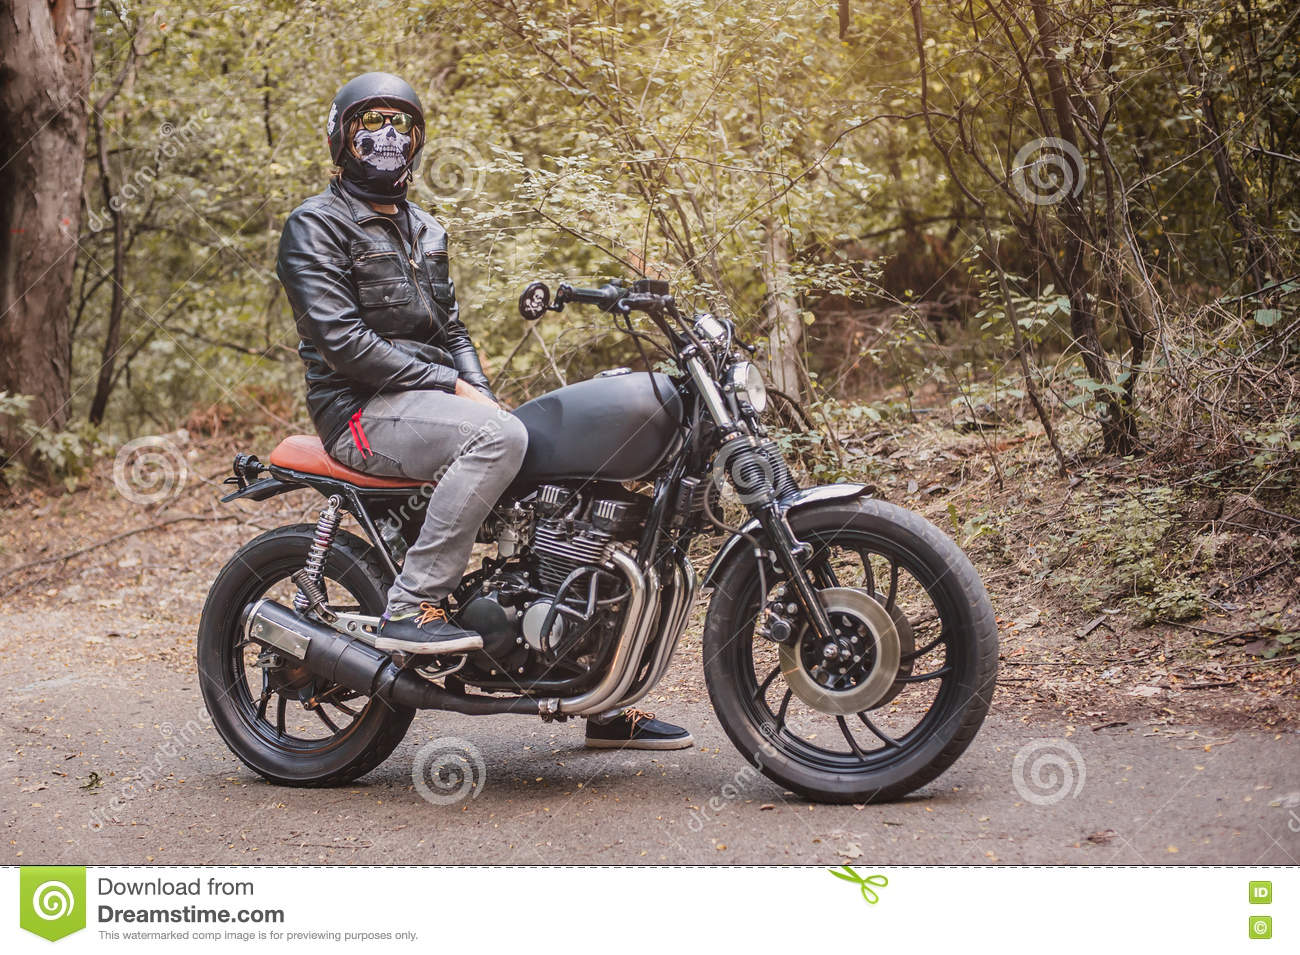helmet: (323, 78, 424, 194)
